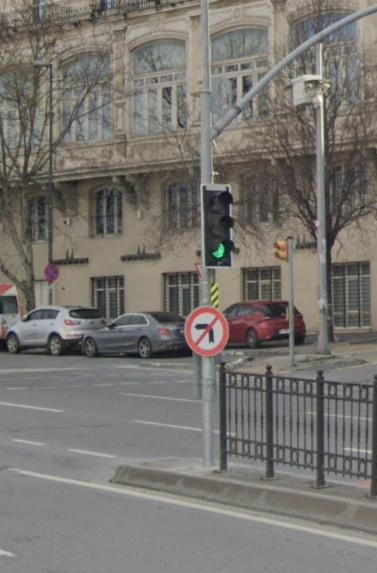greenlight: (199, 186, 233, 270)
leftturnsareforbidden: (186, 311, 228, 355)
